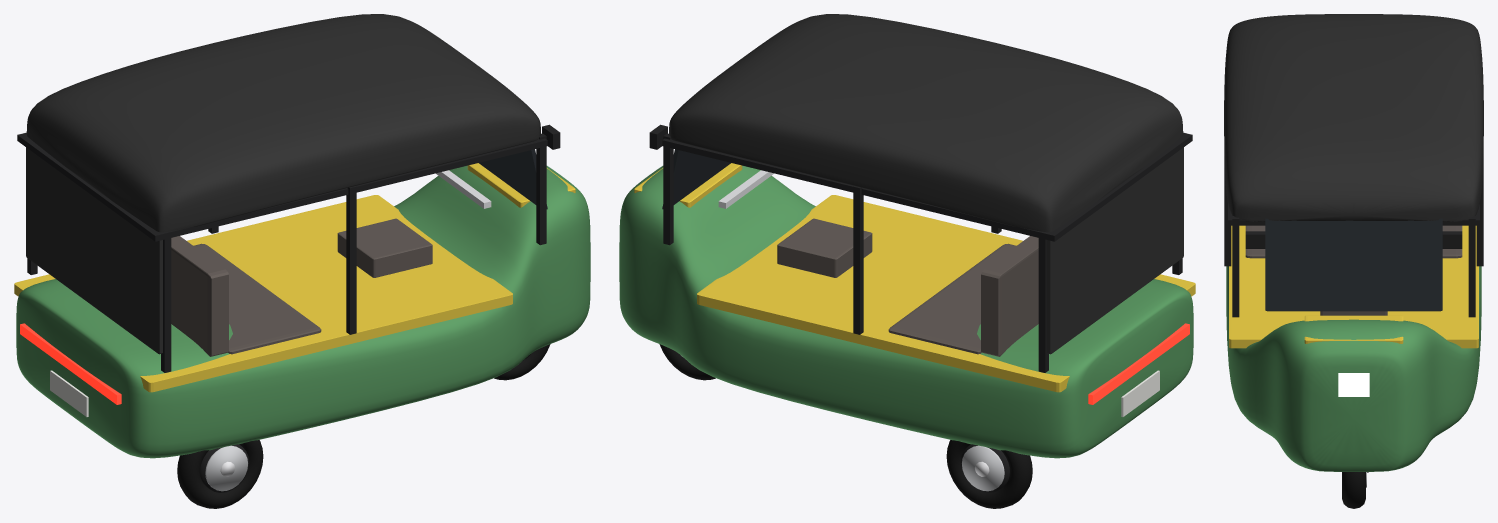
File: fleet_auto.glb
3 views of the same model, side by side, from view 1: azimuth 30°, elevation 25°; view 2: azimuth 150°, elevation 25°; view 3: azimuth 270°, elevation 25° (orthographic). The views are drawn at different scales.
Parts seen in each view (by area): view 1: Body, Cap.002, Glass, TailBar, Cap; view 2: Body, Cap.001, Glass, TailBar, Cap; view 3: Body, Glass, Cap, Headlight.
Part boxes in pixels (left/top/right/bottom): Body: left=14, top=14, right=590, bottom=458; Cap.002: left=177, top=440, right=263, bottom=508; Glass: left=479, top=149, right=547, bottom=209; TailBar: left=20, top=323, right=121, bottom=404; Cap: left=494, top=344, right=550, bottom=380; Body: left=619, top=14, right=1195, bottom=458; Cap.001: left=946, top=440, right=1032, bottom=508; Glass: left=662, top=149, right=730, bottom=209; TailBar: left=1088, top=323, right=1189, bottom=404; Cap: left=659, top=344, right=715, bottom=380; Body: left=1224, top=14, right=1483, bottom=471; Glass: left=1265, top=218, right=1442, bottom=311; Cap: left=1342, top=472, right=1368, bottom=508; Headlight: left=1338, top=373, right=1369, bottom=396.
Size of the model in its own units: 2.7 by 1.82 by 1.32.
